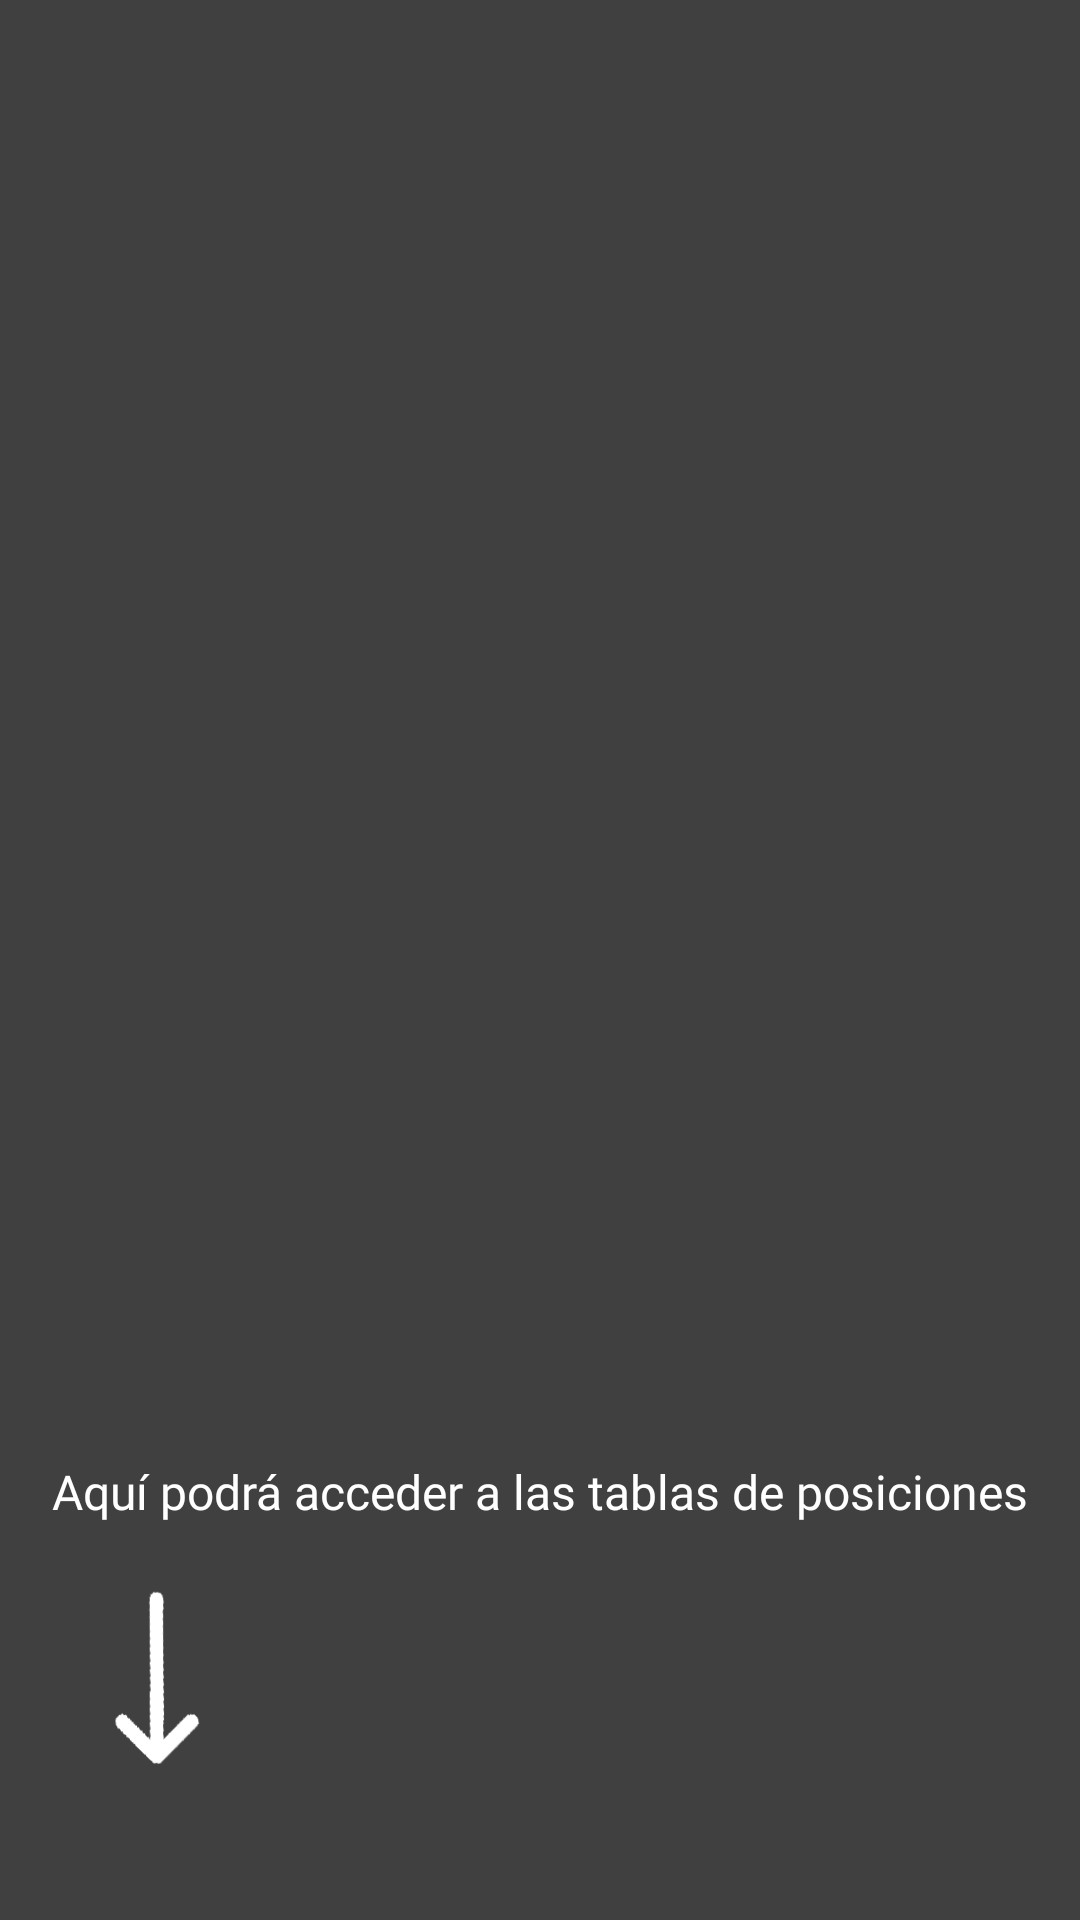

Point at icon controls on the screen. Image size 1080w x 1920h, points as [x,y].
dwon arrow: [157,1678]
